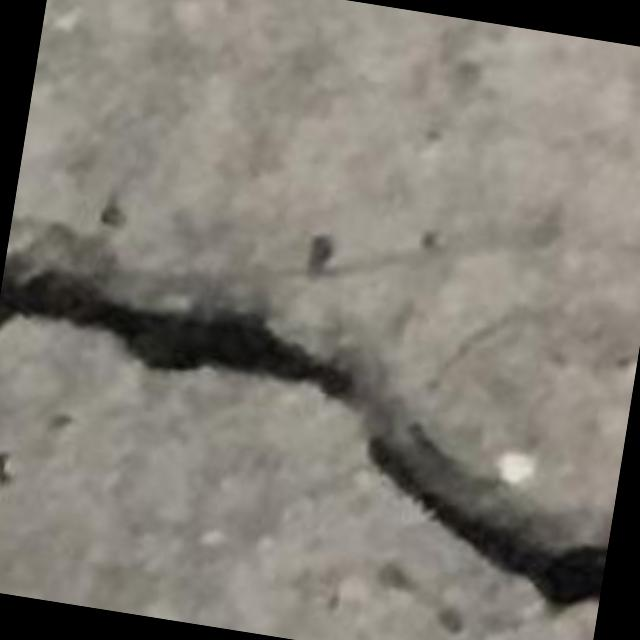crack: (0, 218, 607, 610)
